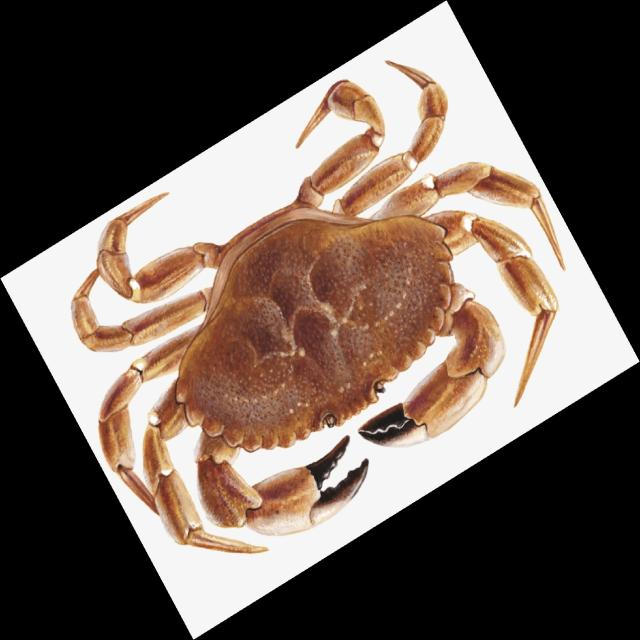Native Jonah crab: (71, 61, 564, 552)
